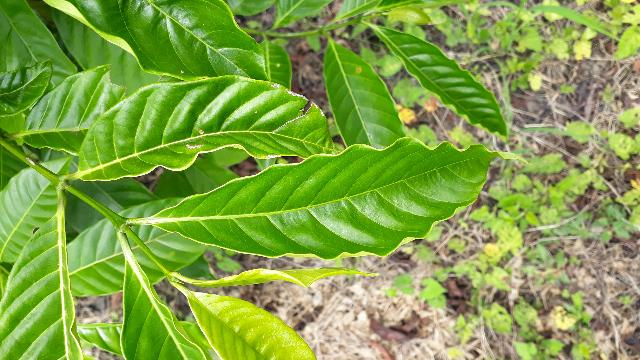healthy: (152, 138, 524, 261)
